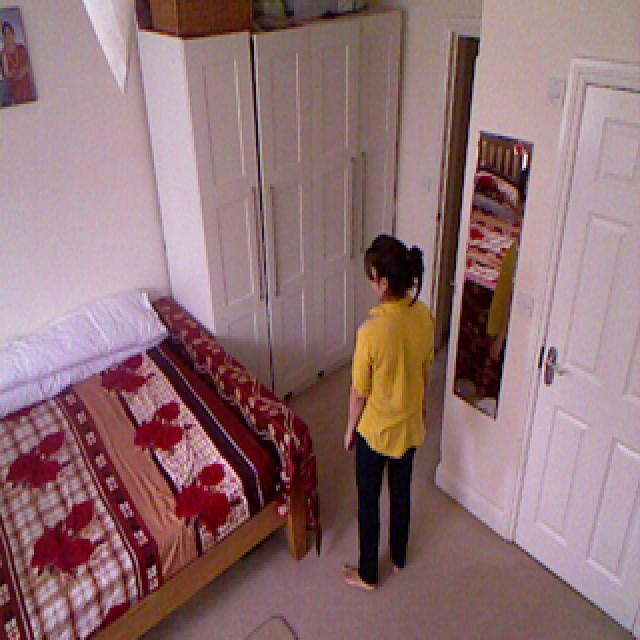standing: (344, 220, 435, 599)
